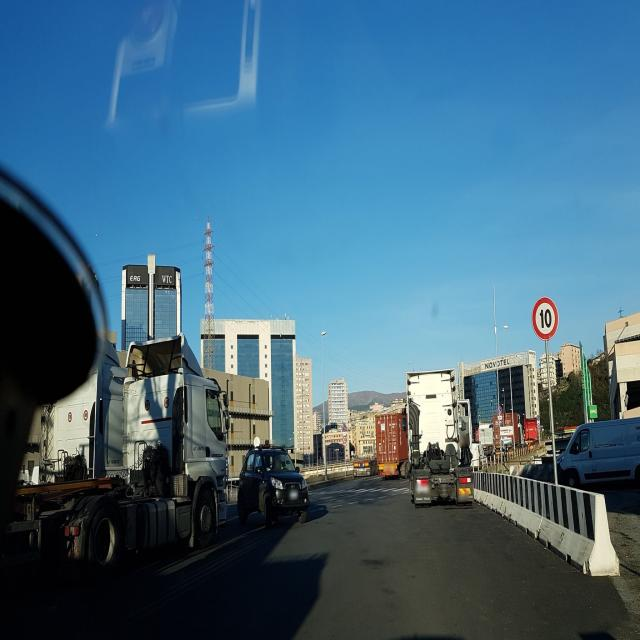car: (237, 447, 309, 528), (556, 419, 640, 488)
